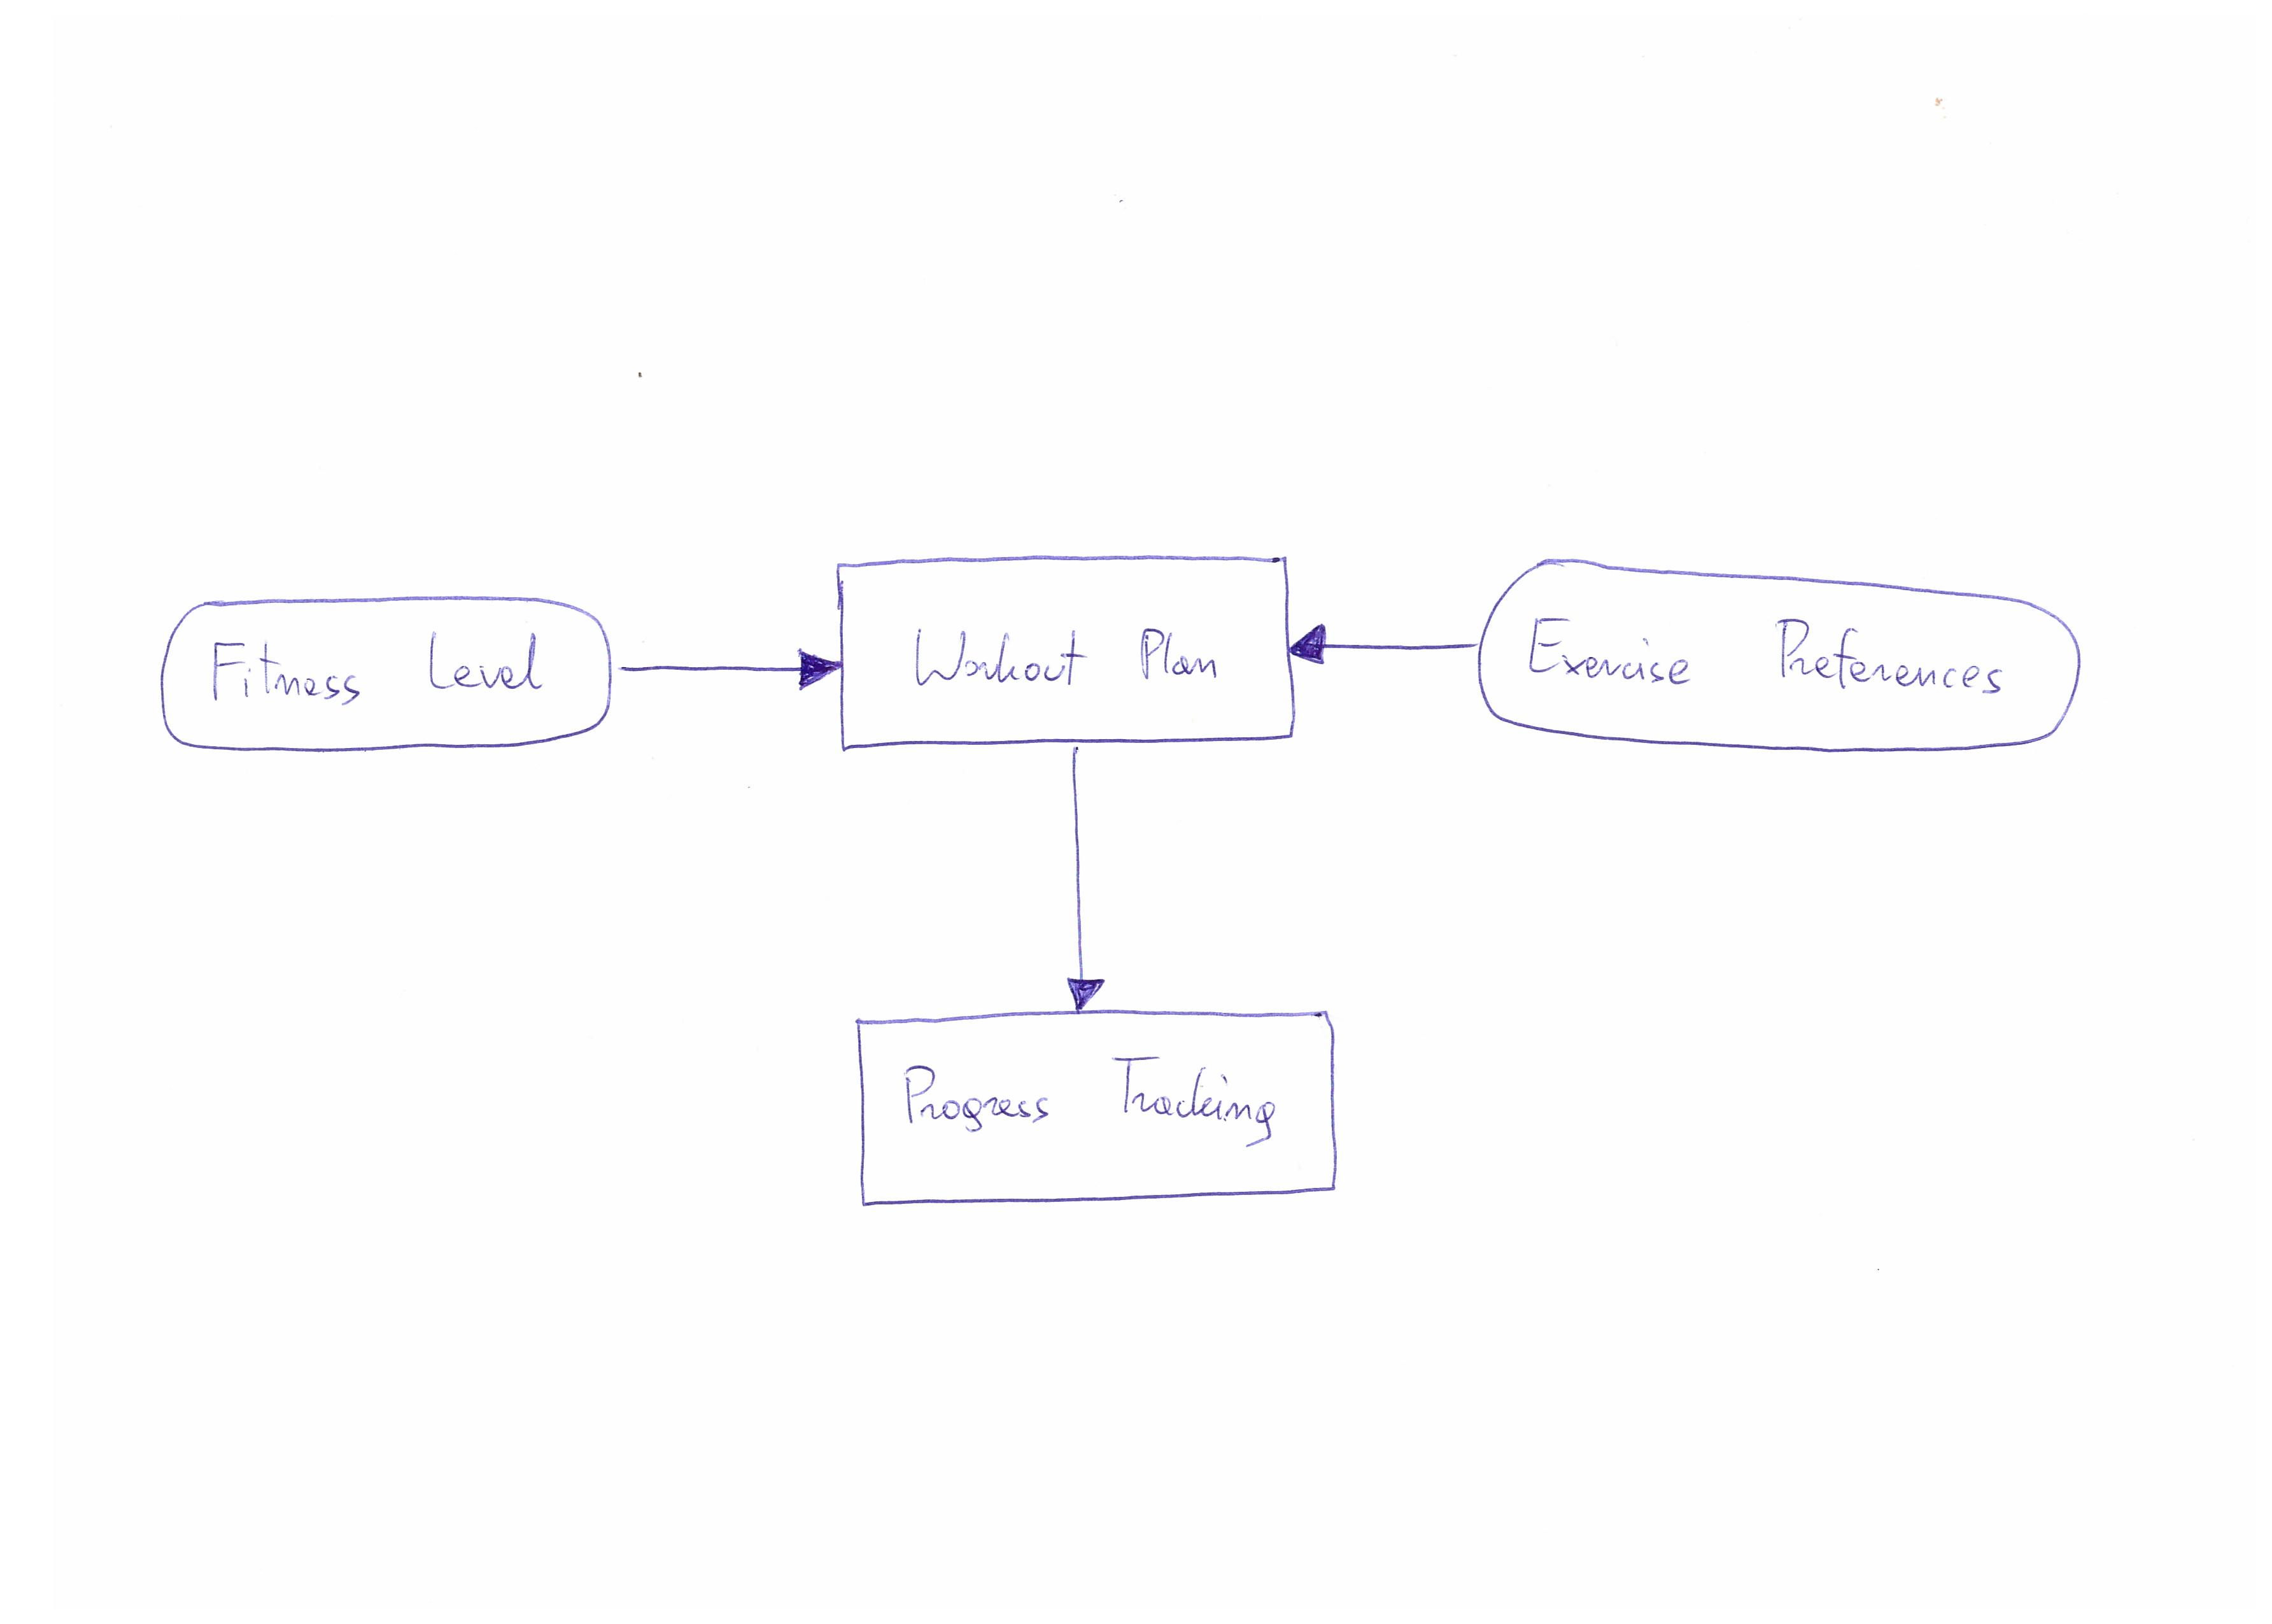arrow_information_requirement: (1047, 743, 1109, 1011), (615, 642, 838, 698), (1290, 617, 1478, 671)
node_decision: (850, 1007, 1344, 1207), (833, 557, 1299, 754)
node_input_data: (1478, 548, 2093, 766), (151, 591, 617, 761)
text: (1527, 610, 2015, 710), (896, 1048, 1288, 1153), (900, 615, 1228, 705), (202, 631, 546, 715)
